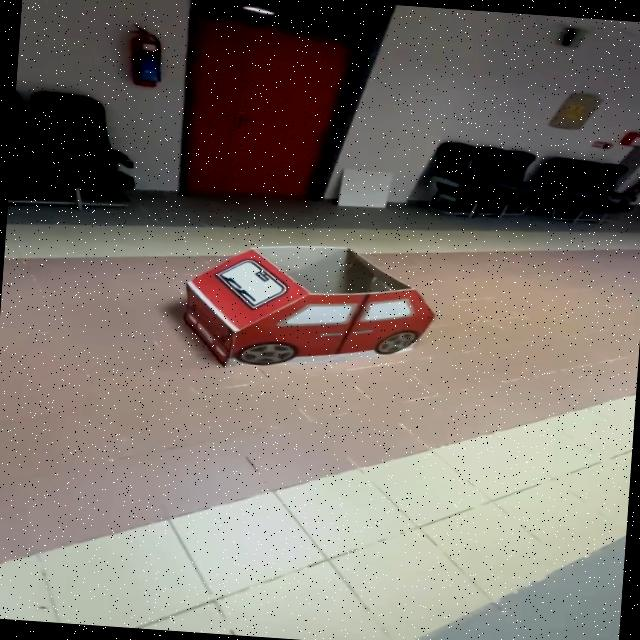red_car: (138, 228, 448, 398)
